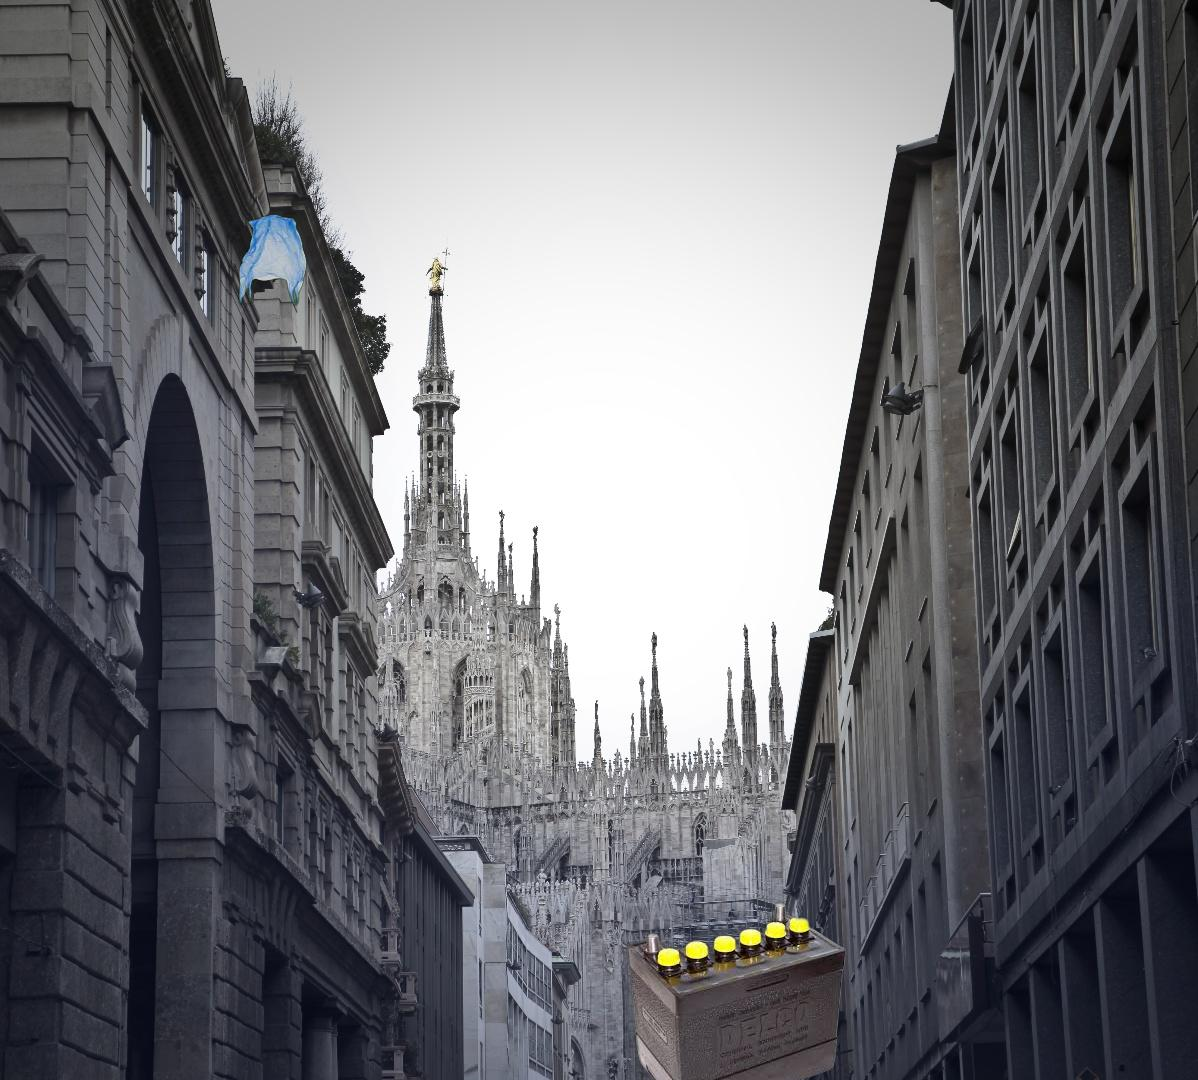battery: (624, 900, 848, 1080)
plastic-bag: (236, 211, 309, 309)
